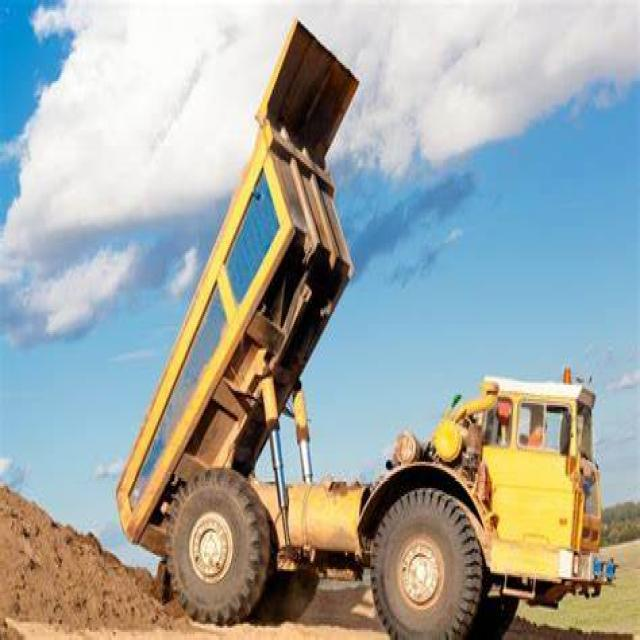dump_truck: (113, 8, 620, 634)
